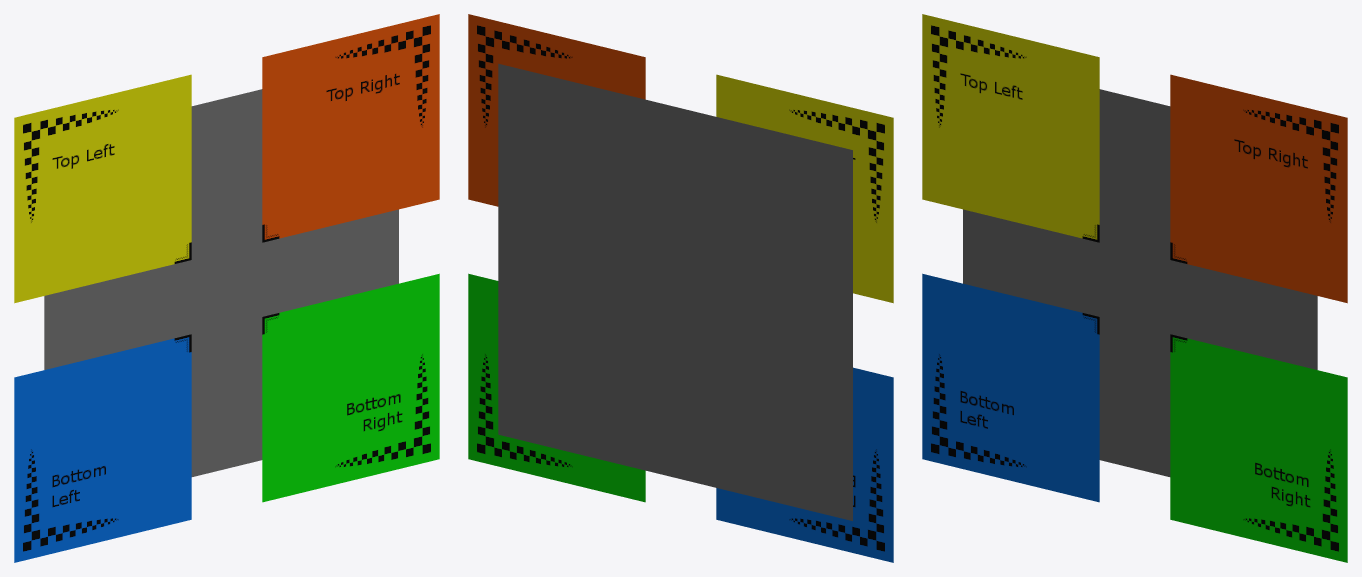
File: TextureCoordinateTest_images.glb
3 views of the same model, side by side, from view 1: azimuth 30°, elevation 25°; view 2: azimuth 150°, elevation 25°; view 3: azimuth 330°, elevation 25° (orthographic).
Visible parts, largest first — view 1: BackPlane, BottomRightObj, TopLeftObj, BottomLeftObj, TopRightObj; view 2: BackPlane, TopLeftObj, TopRightObj, BottomLeftObj, BottomRightObj; view 3: BackPlane, BottomLeftObj, TopRightObj, BottomRightObj, TopLeftObj.
Part boxes in pixels (x1,y1,x2,y2): BackPlane: [44, 89, 398, 476]; BottomRightObj: [262, 273, 439, 502]; TopLeftObj: [14, 74, 191, 303]; BottomLeftObj: [14, 334, 191, 562]; TopRightObj: [262, 14, 439, 242]; BackPlane: [498, 63, 852, 520]; TopLeftObj: [716, 74, 893, 303]; TopRightObj: [468, 14, 645, 206]; BottomLeftObj: [716, 367, 893, 562]; BottomRightObj: [468, 273, 645, 502]; BackPlane: [963, 89, 1317, 476]; BottomLeftObj: [922, 273, 1099, 502]; TopRightObj: [1170, 74, 1347, 303]; BottomRightObj: [1170, 334, 1347, 562]; TopLeftObj: [922, 14, 1099, 242].
Size of the model in its own units: 2.4 by 2.4 by 0.0526.
Materials: 5 (4 with a texture image).
